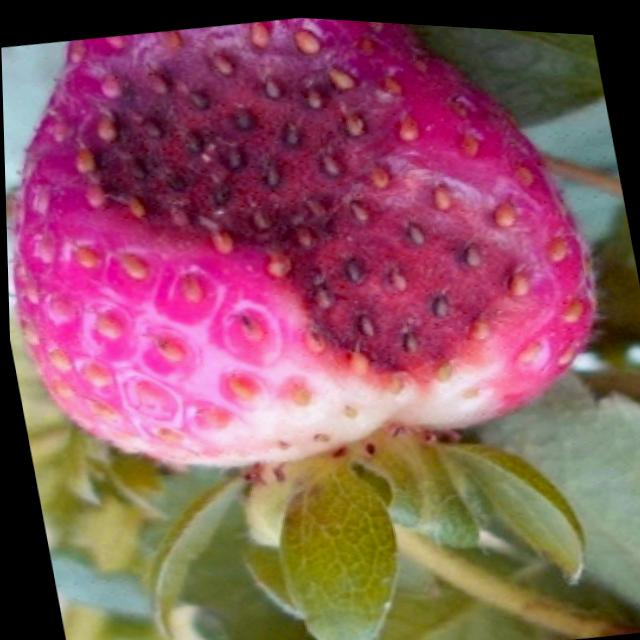Anthracnose Fruit Rot: (28, 14, 558, 389)
